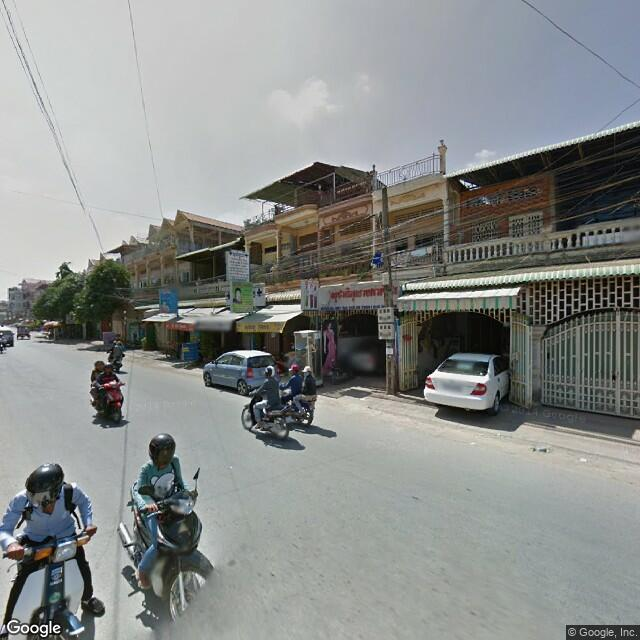litter: (576, 450, 590, 471)
